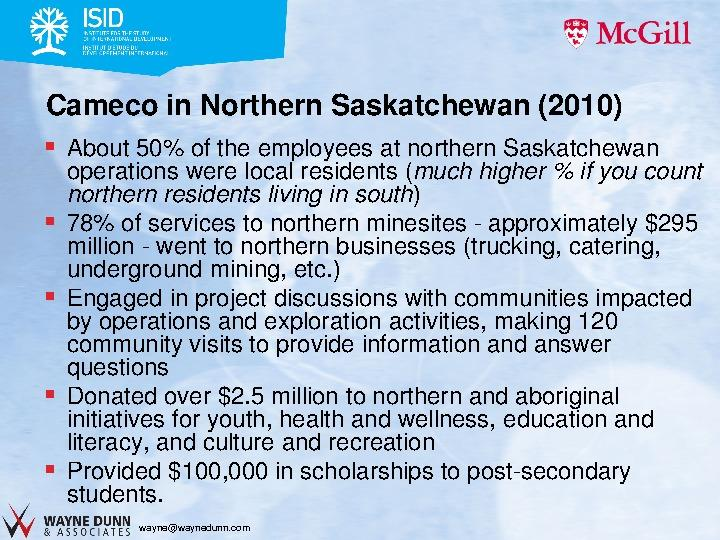paragraph: (35, 134, 713, 513)
subtitle: (41, 77, 632, 128)
title: (75, 1, 718, 65)
